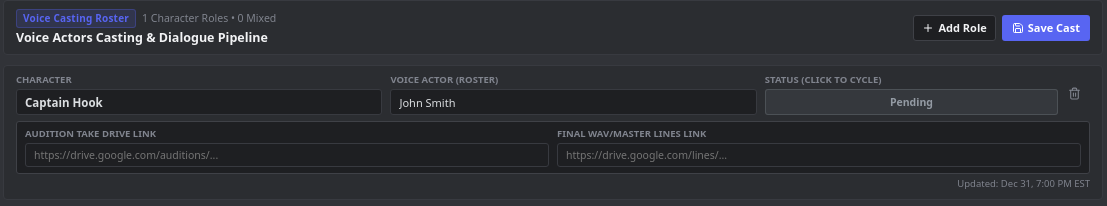
Test: <VoiceCastingTab /> › cycles voice actor status on click
Click the button "Pending": (911, 102) [765,89,1058,115]
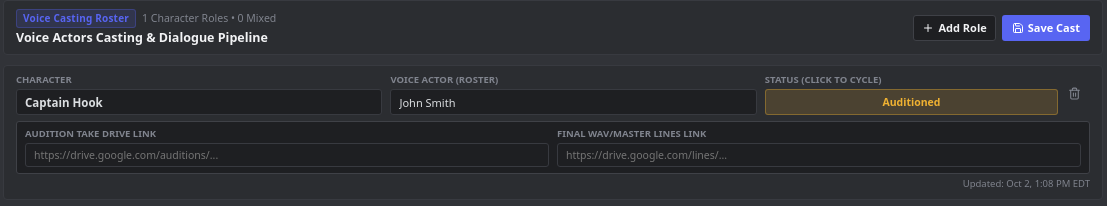
Now the button "Pending" reads "Auditioned"
Click the button "Pending": (911, 102) [765,89,1058,115]
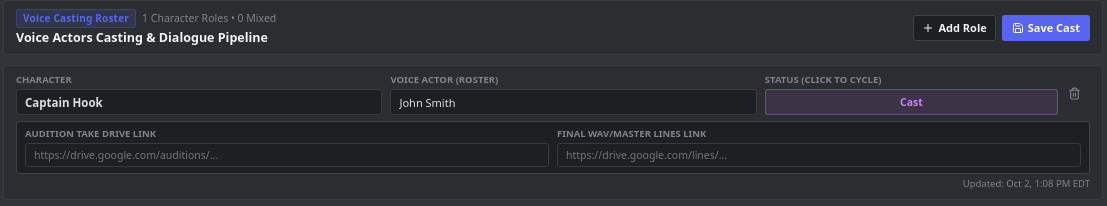
Now the button "Pending" reads "Cast", box [765,89,1058,115]
